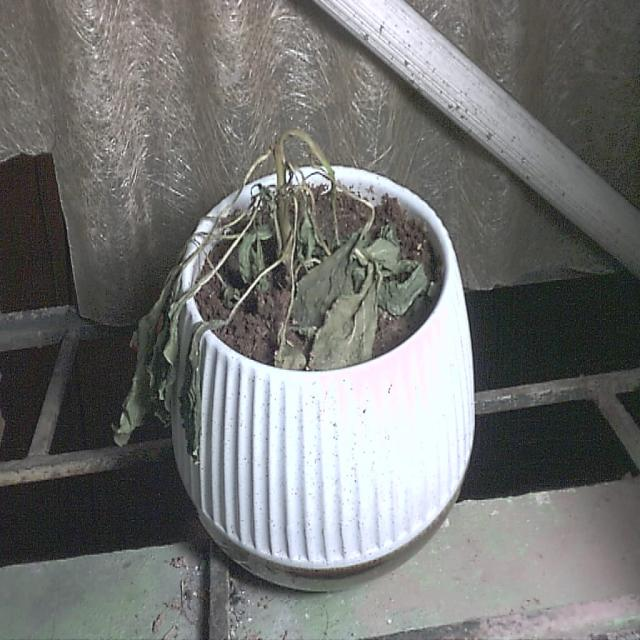Leaf: (292, 232, 378, 374), (114, 285, 179, 447), (178, 318, 215, 463), (234, 210, 284, 288)
